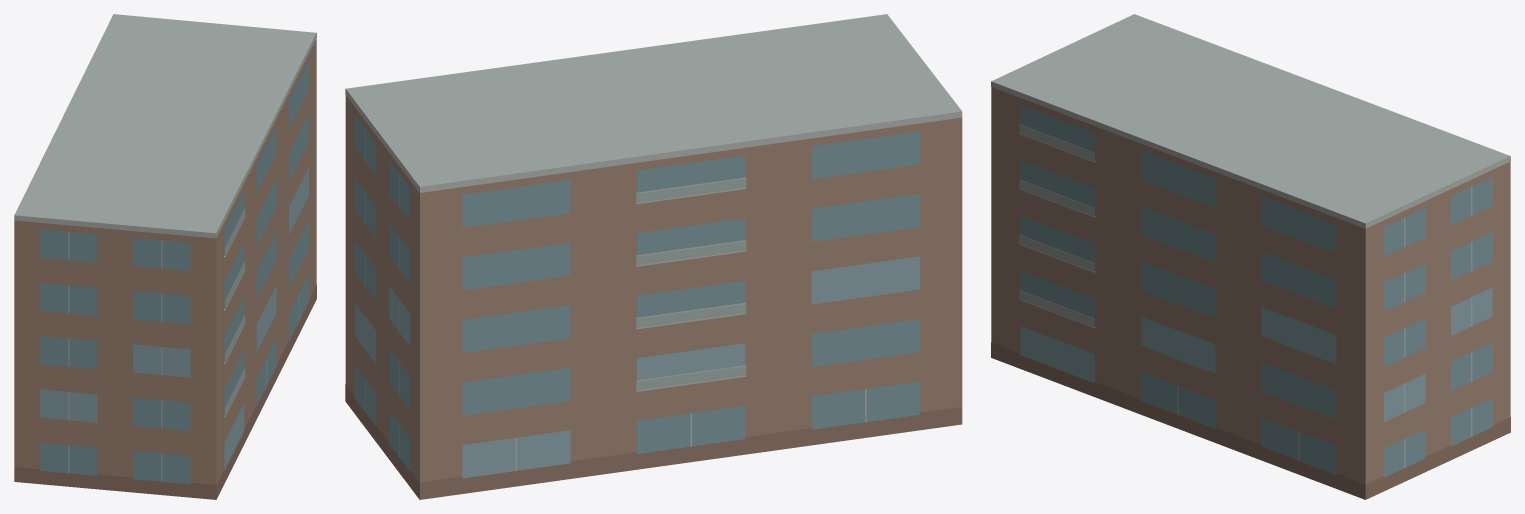
File: survey-upis-32537804.glb
3 renders of one model, left to right at view 1: azimuth 30°, elevation 25°; view 2: azimuth 150°, elevation 25°; view 3: azimuth 270°, elevation 25°, orthographic. The views are drawn at different scales.
Parts seen in each view (by area): view 1: survey-upis-32537804.tmp; view 2: survey-upis-32537804.tmp; view 3: survey-upis-32537804.tmp.
Part boxes in pixels (bbox=[...]): survey-upis-32537804.tmp: bbox=[14, 14, 316, 499]; survey-upis-32537804.tmp: bbox=[345, 14, 962, 499]; survey-upis-32537804.tmp: bbox=[991, 14, 1510, 499].
Size of the model in its own units: 20.49 by 12.6 by 21.47.
